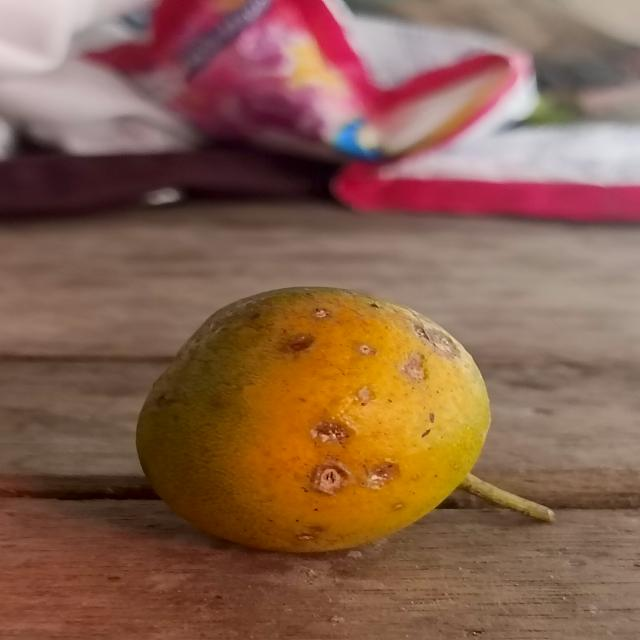black spot: (134, 286, 498, 558)
